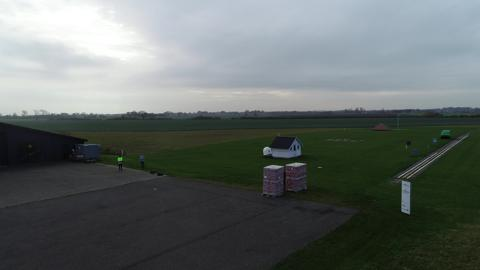RockwoolPallet: (287, 162, 308, 190)
